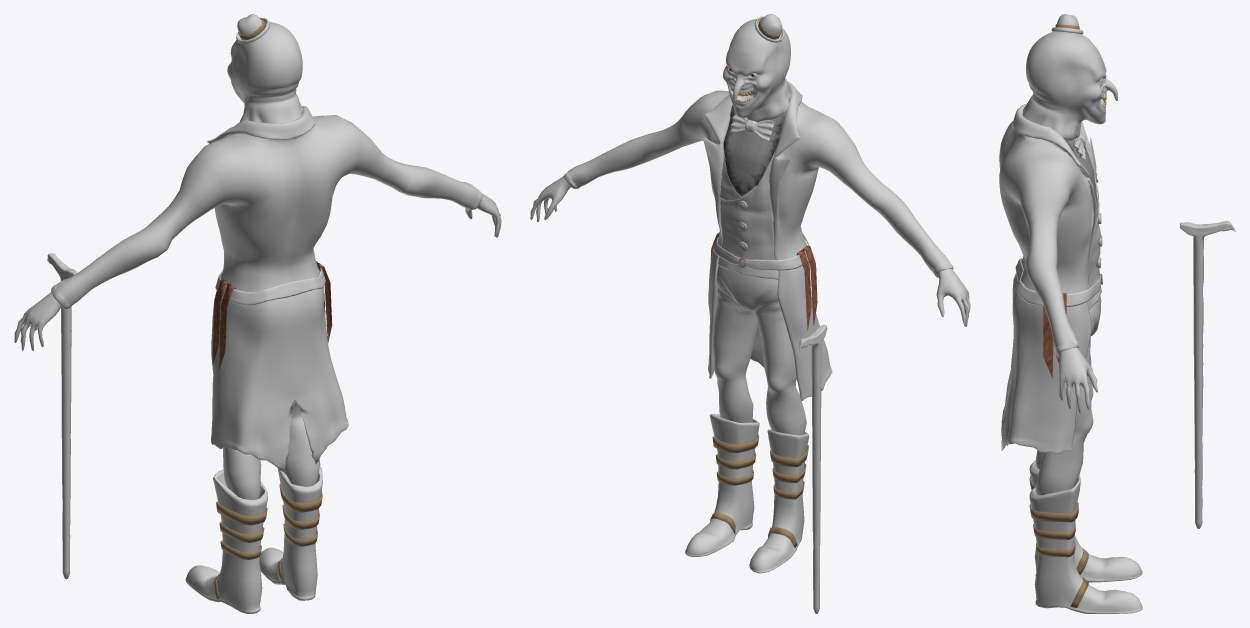
File: SHOWMAKER 55K poly.fbx
The picture shows the model from 3 angles, left to right: view 1: azimuth 30°, elevation 25°; view 2: azimuth 150°, elevation 25°; view 3: azimuth 270°, elevation 25°; orthographic projection. The views are drawn at different scales.
Visible parts, largest first — view 1: ceket low, ayak low, kafa low, pantolon low, baston low, deri2, el low, kusak low, deri3.001; view 2: ceket low, pantolon low, ayak low, kafa low, yelek1low, iç low, baston low, deri2, el low, kusak low, papyon low; view 3: ceket low, ayak low, kafa low, baston low, pantolon low, deri2, el low, kusak low, yelek1low, deri3.001, iç low, sapka low.
Part boxes in pixels (bbox=[...]): ceket low: bbox=[51, 106, 482, 472]; ayak low: bbox=[185, 465, 322, 613]; kafa low: bbox=[227, 22, 302, 123]; pantolon low: bbox=[223, 401, 320, 499]; baston low: bbox=[47, 253, 77, 579]; deri2: bbox=[213, 484, 322, 598]; el low: bbox=[14, 193, 501, 350]; kusak low: bbox=[215, 267, 325, 305]; deri3.001: bbox=[219, 263, 332, 369]; ceket low: bbox=[563, 81, 953, 400]; pantolon low: bbox=[713, 265, 806, 435]; ayak low: bbox=[685, 414, 809, 573]; kafa low: bbox=[723, 19, 791, 122]; yelek1low: bbox=[718, 152, 778, 279]; iç low: bbox=[723, 105, 785, 196]; baston low: bbox=[799, 324, 827, 613]; deri2: bbox=[710, 433, 808, 547]; el low: bbox=[530, 176, 970, 326]; kusak low: bbox=[713, 233, 809, 270]; papyon low: bbox=[730, 112, 773, 140]; ceket low: bbox=[999, 103, 1096, 454]; ayak low: bbox=[1029, 460, 1142, 613]; kafa low: bbox=[1022, 31, 1118, 140]; baston low: bbox=[1180, 221, 1235, 528]; pantolon low: bbox=[1035, 295, 1101, 495]; deri2: bbox=[1029, 476, 1088, 607]; el low: bbox=[1059, 173, 1098, 413]; kusak low: bbox=[1015, 258, 1101, 306]; yelek1low: bbox=[1085, 146, 1101, 309]; deri3.001: bbox=[1043, 305, 1053, 377]; iç low: bbox=[1064, 139, 1096, 201]; sapka low: bbox=[1051, 14, 1083, 34].
Size of the model in its own units: 3034 by 3522 by 1323.
